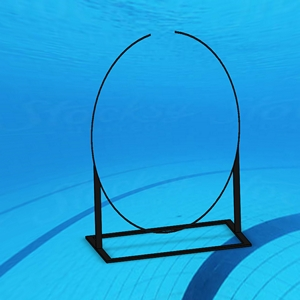circle: (82, 29, 254, 266)
